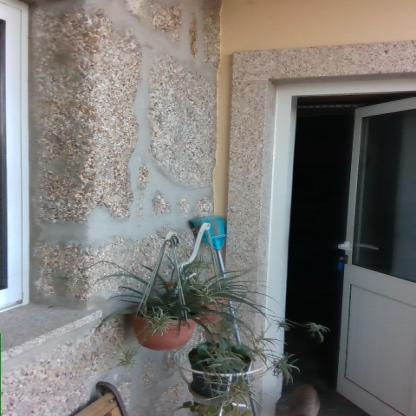semi: (240, 71, 416, 415)
